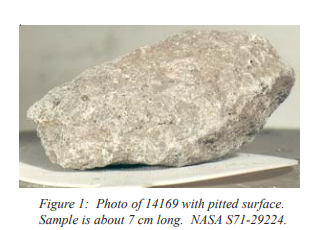Breccia: (20, 23, 297, 172), (98, 80, 249, 166), (183, 26, 291, 122)
